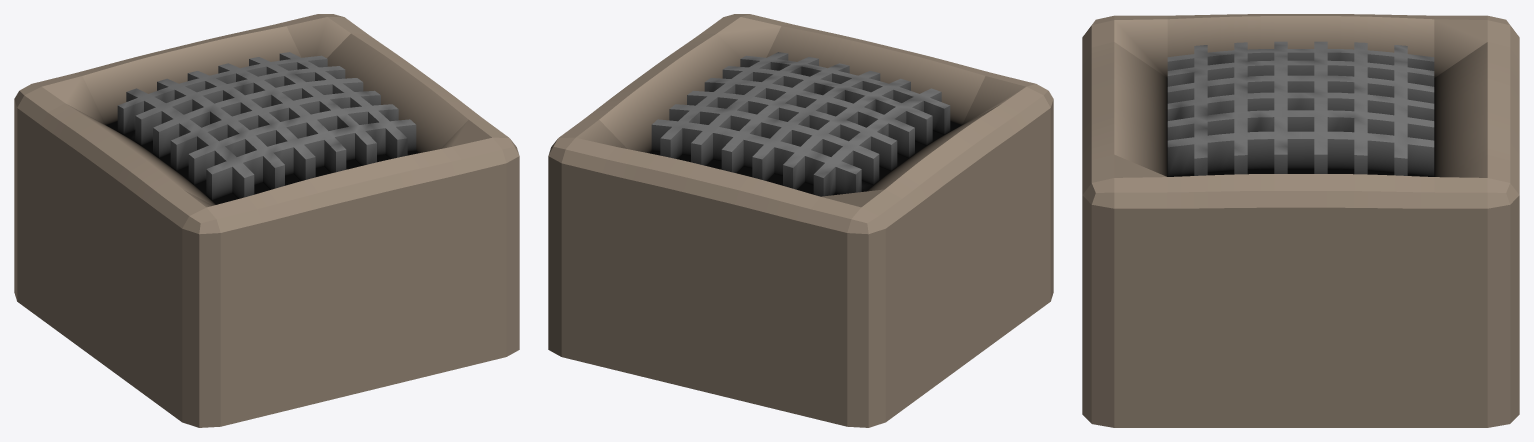
File: speaker.glb
The picture shows the model from 3 angles, left to right: view 1: azimuth 30°, elevation 25°; view 2: azimuth 150°, elevation 25°; view 3: azimuth 270°, elevation 25°; orthographic projection. The views are drawn at different scales.
Visible parts, largest first — view 1: Cube; view 2: Cube; view 3: Cube.
Part boxes in pixels (x1,y1,x2,y2): Cube: [14, 14, 519, 427]; Cube: [548, 14, 1053, 427]; Cube: [1082, 14, 1519, 427].
Bounding box in the file's own units: 2 × 1.26 × 2.
